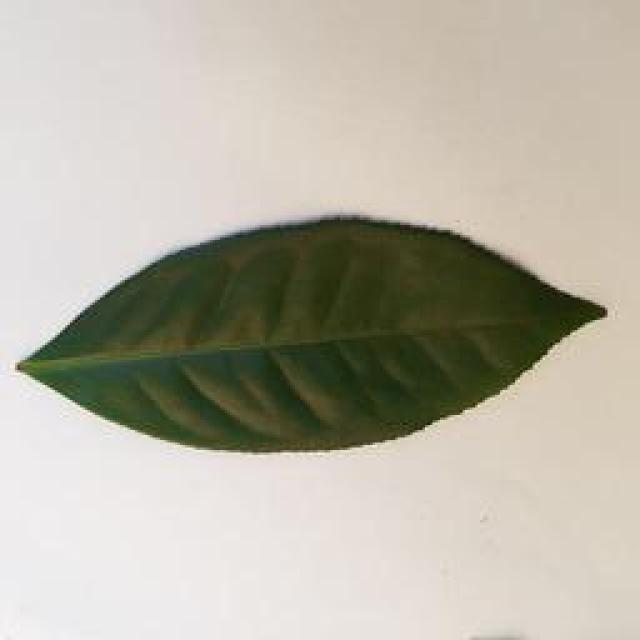Healthy: (6, 216, 610, 455)
